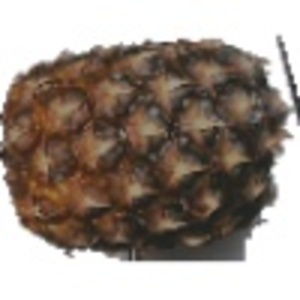abacaxi: (2, 40, 288, 246)
